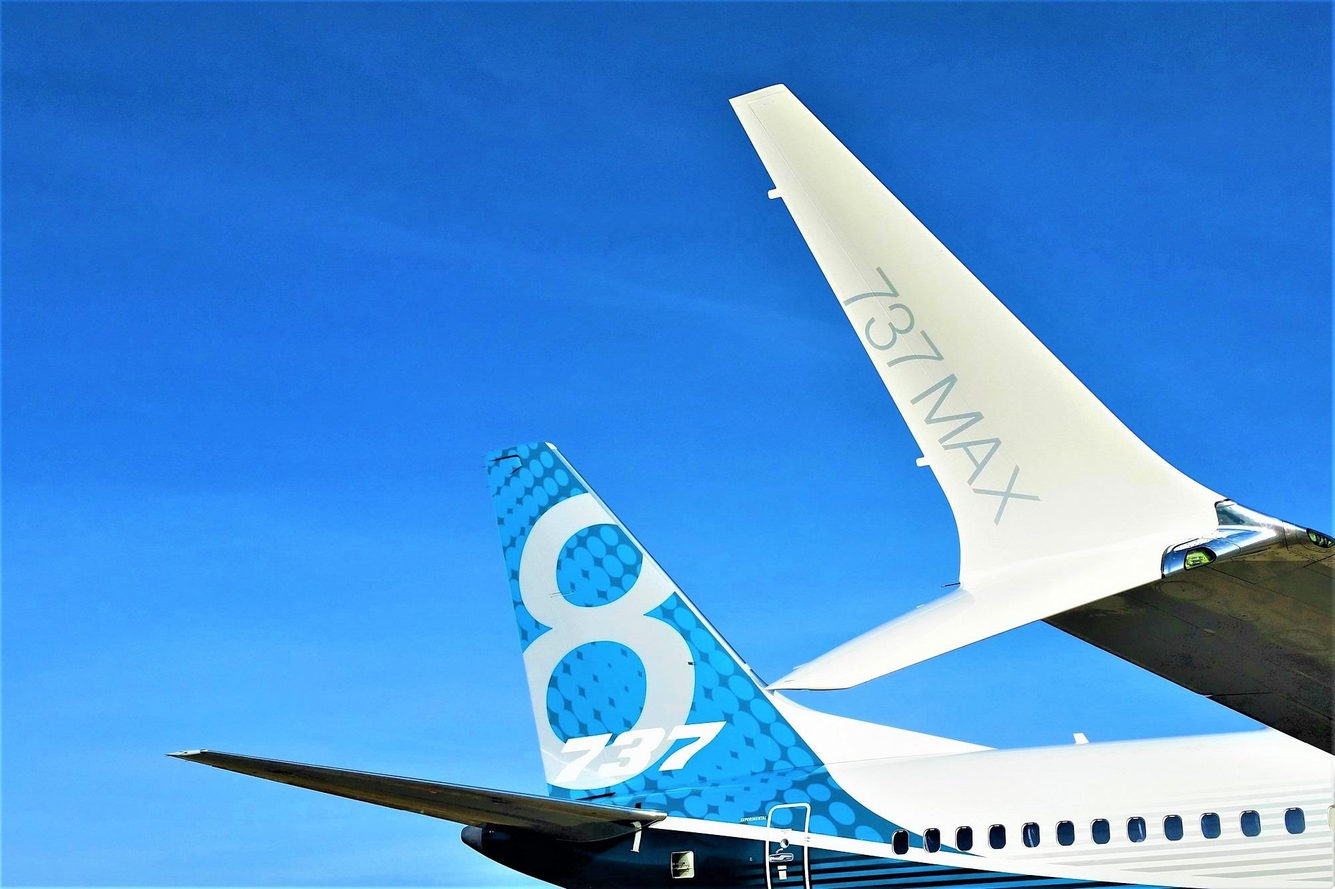aircraft: (361, 81, 1332, 875), (730, 83, 1332, 765)
